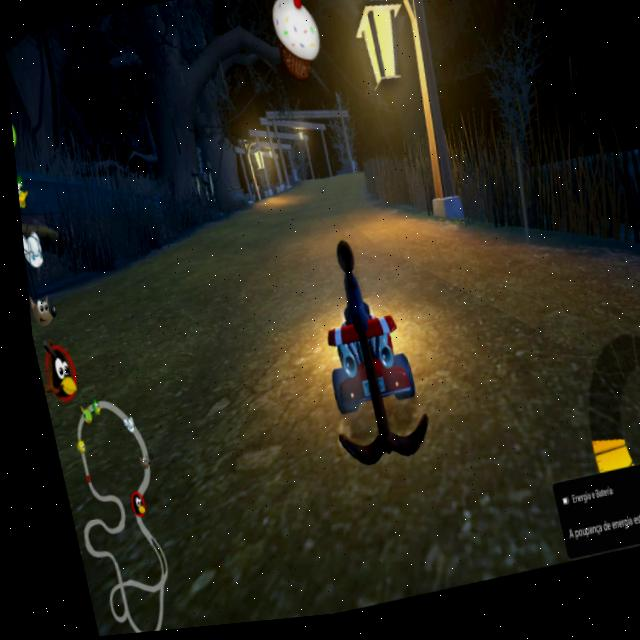player_kart: (288, 228, 439, 492)
track: (77, 244, 325, 511), (225, 179, 375, 263)
